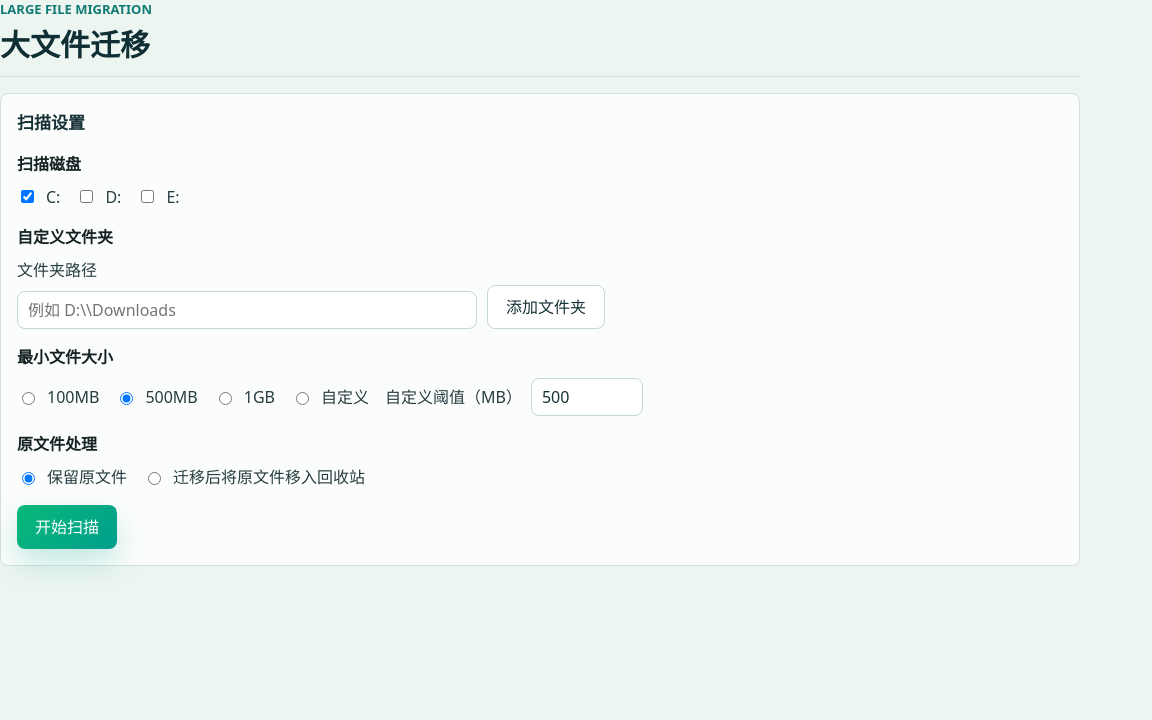
Test case: LargeFileMigrationPage › groups scan results by large file category
Click the button "开始扫描": (67, 526) [17, 504, 117, 548]
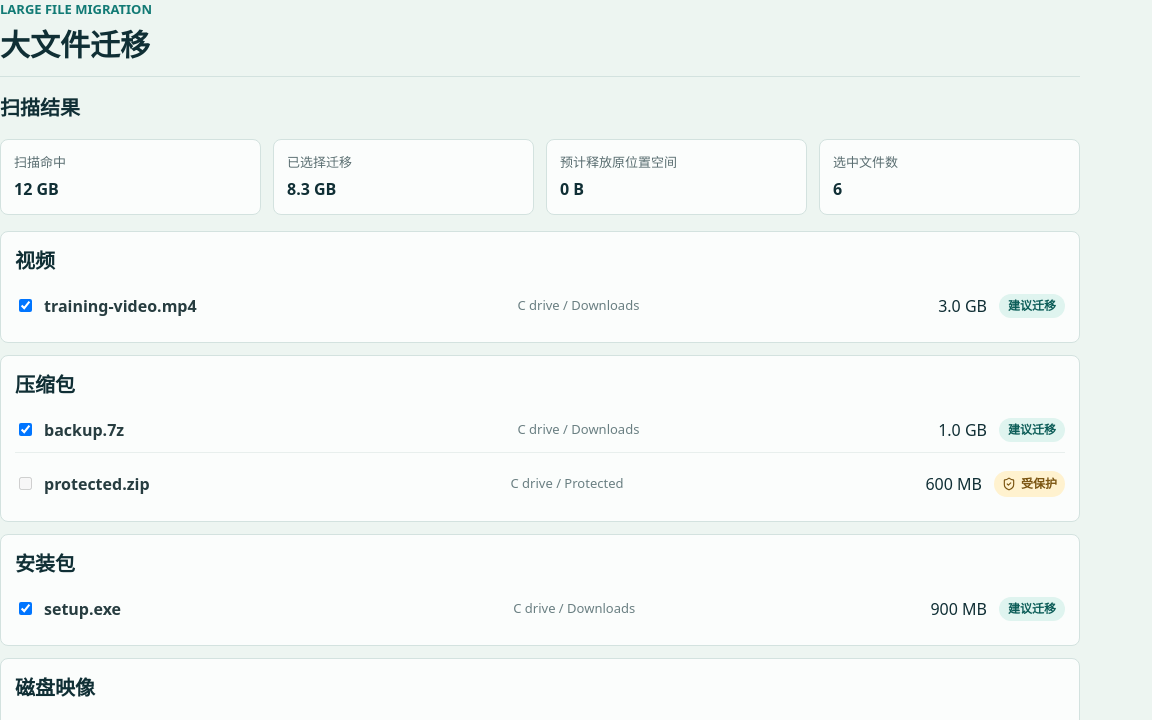
Expected: the heading "扫描结果" is shown, [0, 94, 80, 121]
Expected: the heading "视频" is shown, [15, 246, 55, 274]
Expected: the heading "压缩包" is shown, [15, 370, 75, 398]
